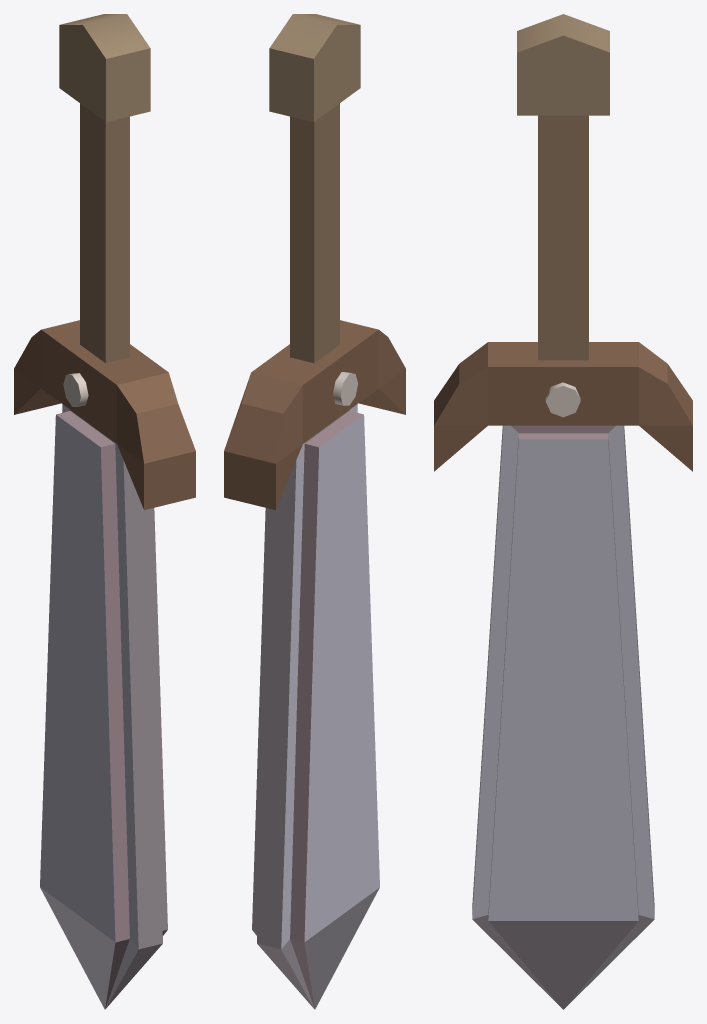
File: basicsword.glb
3 renders of one model, left to right at view 1: azimuth 30°, elevation 25°; view 2: azimuth 150°, elevation 25°; view 3: azimuth 270°, elevation 25°, orthographic.
Visible parts, largest first — view 1: Basicsword.001; view 2: Basicsword.001; view 3: Basicsword.001.
Boxes of the visible parts, x1,y1,x2,y2 form: Basicsword.001: (14, 14, 195, 1009); Basicsword.001: (224, 14, 405, 1009); Basicsword.001: (434, 14, 692, 1009).
Bounding box in the file's own units: 0.123 × 1.75 × 0.4165.
